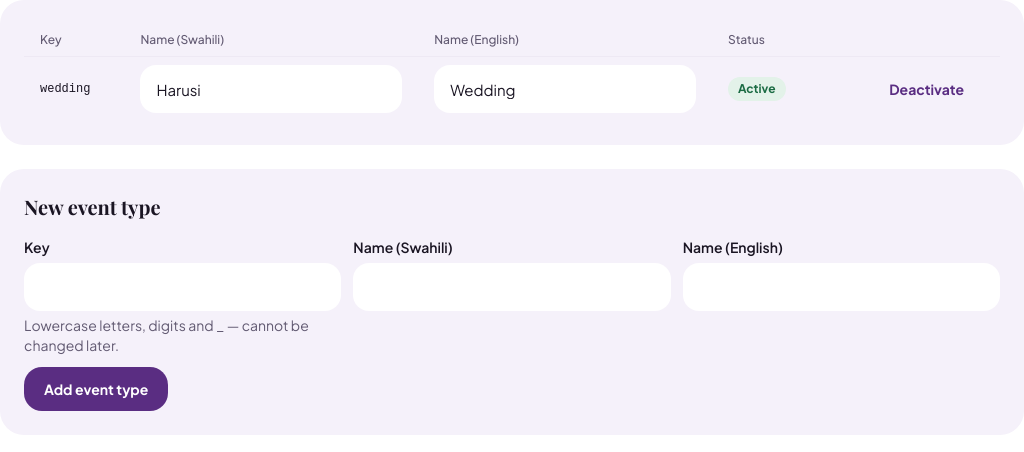
Test: EventTypesAdmin › renames and toggles a type
Replace the text in the field named "Name (English) wedding" with "Wedding ceremony": {"x": 565, "y": 89} [434, 65, 696, 113]
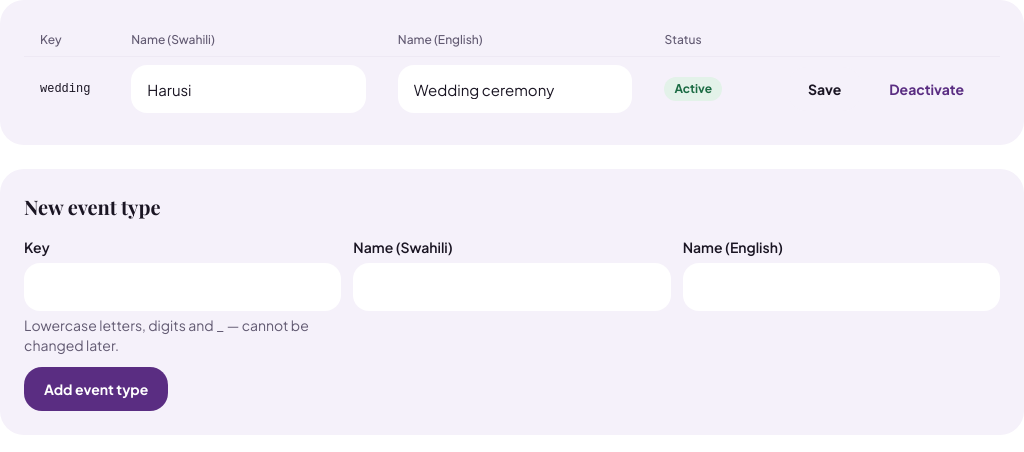
Click the button "Save": {"x": 825, "y": 89} [788, 67, 861, 111]
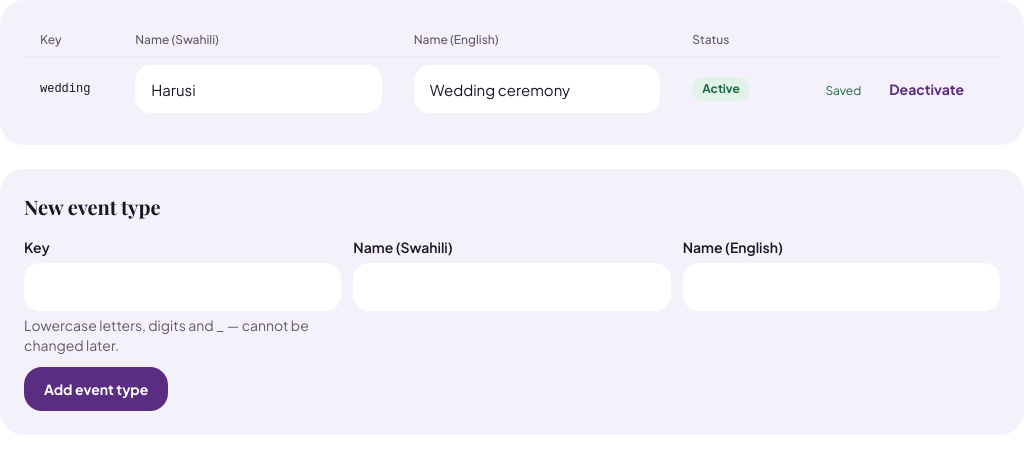
expect the text "Saved" is shown: met, box [826, 83, 861, 98]
Click the button "Deactivate": {"x": 927, "y": 89} [869, 67, 984, 111]
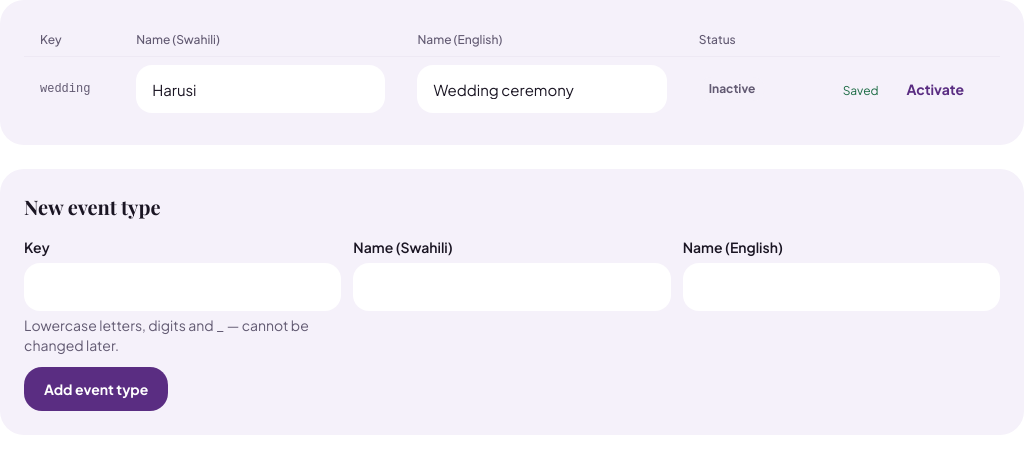
expect the button "Activate" is shown: met, box [887, 67, 984, 111]
expect the text "Inactive" is shown: met, box [699, 77, 765, 101]
